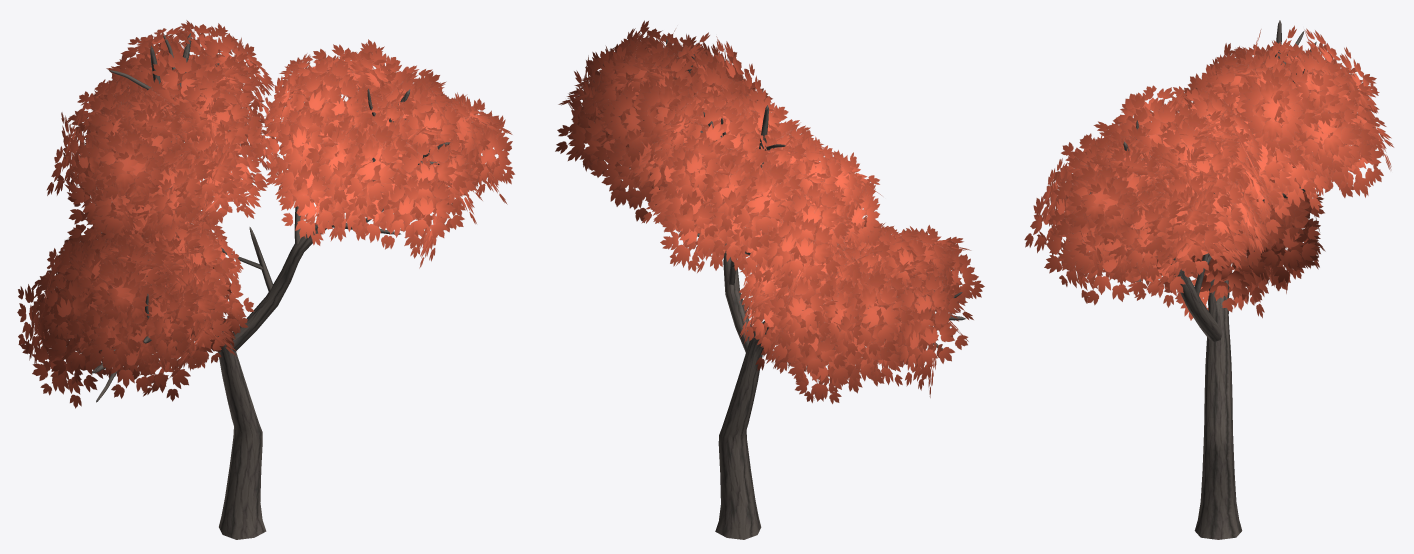
The model's file is MapleTree_5.glb.
The picture shows the model from 3 angles, left to right: view 1: azimuth 30°, elevation 25°; view 2: azimuth 150°, elevation 25°; view 3: azimuth 270°, elevation 25°; orthographic projection. The views are drawn at different scales.
Visible parts, largest first — view 1: MapleTree_5; view 2: MapleTree_5; view 3: MapleTree_5.
Boxes of the visible parts, x1=… form: MapleTree_5: x1=17, y1=20, x2=514, y2=539; MapleTree_5: x1=555, y1=20, x2=984, y2=539; MapleTree_5: x1=1024, y1=20, x2=1394, y2=539.
Bounding box in the file's own units: 7.01 × 7.28 × 5.08.
2 materials, 2 textured.
